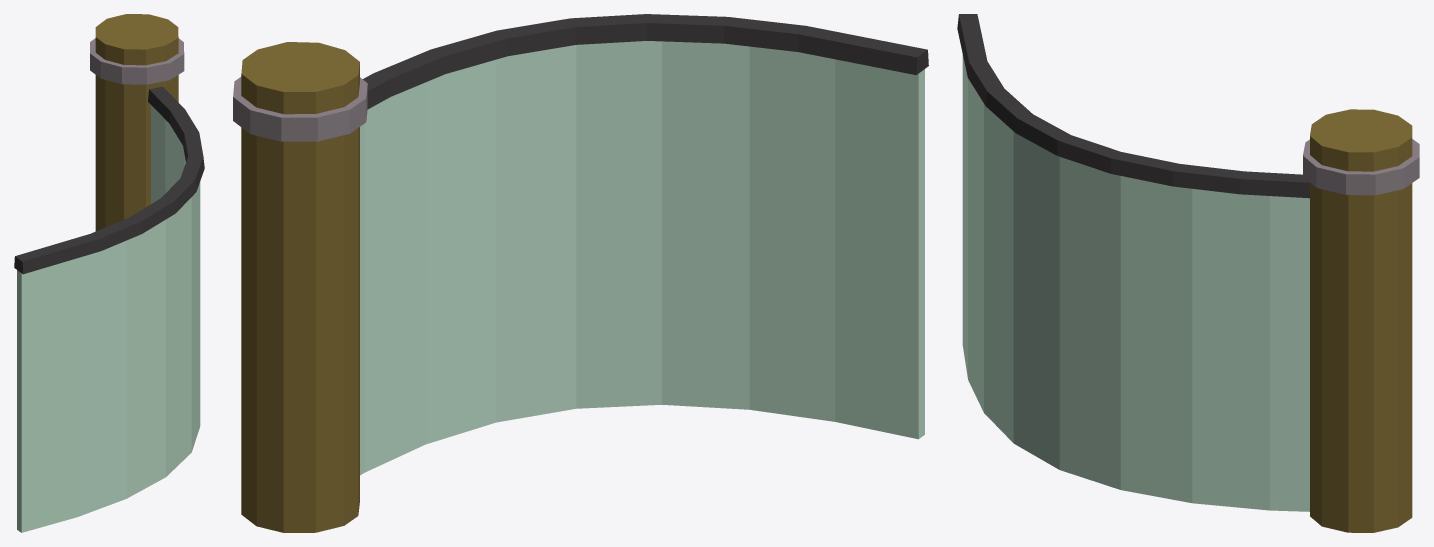
Rendered from Log_Fence_Curved.fbx.
3 renders of one model, left to right at view 1: azimuth 30°, elevation 25°; view 2: azimuth 150°, elevation 25°; view 3: azimuth 270°, elevation 25°, orthographic. The views are drawn at different scales.
Parts seen in each view (by area): view 1: Fence_Log_Curved_Glass, Fence_Log_Curved; view 2: Fence_Log_Curved_Glass, Fence_Log_Curved; view 3: Fence_Log_Curved_Glass, Fence_Log_Curved.
Part boxes in pixels (x1,y1,x2,y2): Fence_Log_Curved_Glass: (17,105,200,532); Fence_Log_Curved: (14,14,204,274); Fence_Log_Curved_Glass: (360,41,924,475); Fence_Log_Curved: (233,14,928,532); Fence_Log_Curved_Glass: (962,55,1309,511); Fence_Log_Curved: (957,14,1419,532).
Size of the model in its own units: 215 by 200 by 220.
